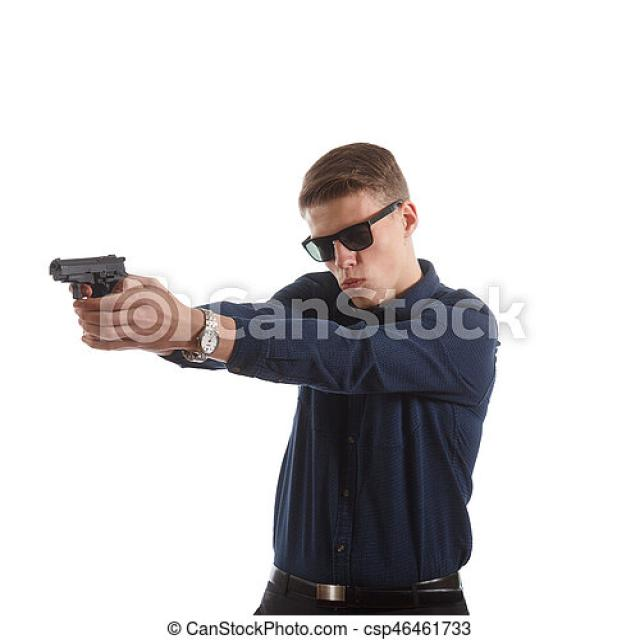HandGun: (47, 255, 127, 302)
